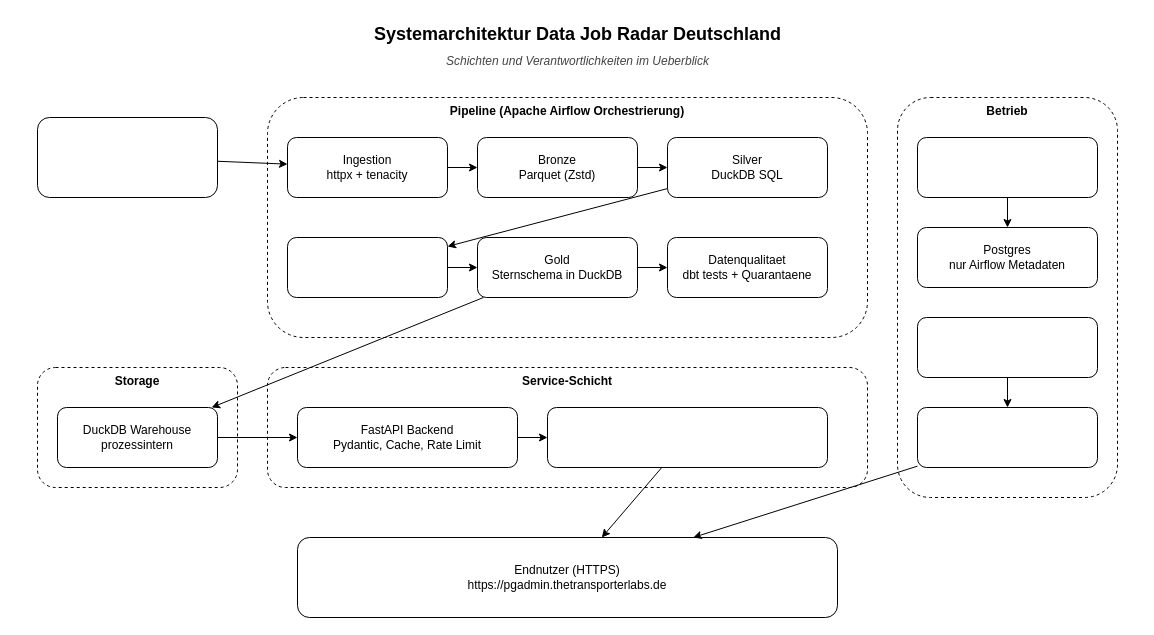
Some shapes in this 1154 by 635 pixel diagram are drawn without their labels. Each missing label, with the centre of its shape:
"Adzuna API extern, REST, Land: de" belongs at point 127,157.
"Airflow Scheduler LocalExecutor" belongs at point 1007,167.
"dbt Core Staging + Marts" belongs at point 367,267.
"Docker Compose Healthchecks, Volumes" belongs at point 1007,347.
"Host-Nginx (TLS)" belongs at point 1007,437.
"Next.js Dashboard statisch exportiert" belongs at point 687,437.
